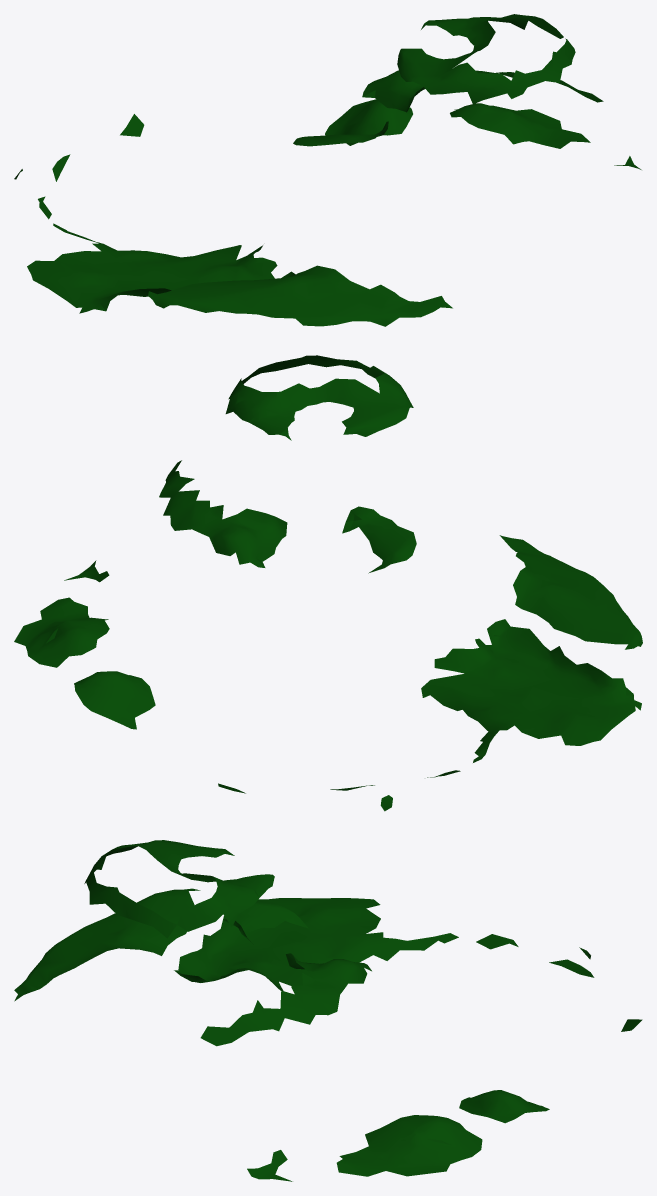
Rendered from grass.FBX.
3 views of the same model, one above another, from view 1: azimuth 30°, elevation 25°; view 2: azimuth 150°, elevation 25°; view 3: azimuth 270°, elevation 25° (orthographic). The views are drawn at different scales.
Visible parts, largest first — view 1: Object001; view 2: Object001; view 3: Object001.
Boxes of the visible parts, bbox=[...] form: Object001: bbox=[14, 14, 641, 326]; Object001: bbox=[14, 355, 642, 811]; Object001: bbox=[14, 840, 642, 1181].
Size of the model in its own units: 6584357 by 2525599 by 6075623.
